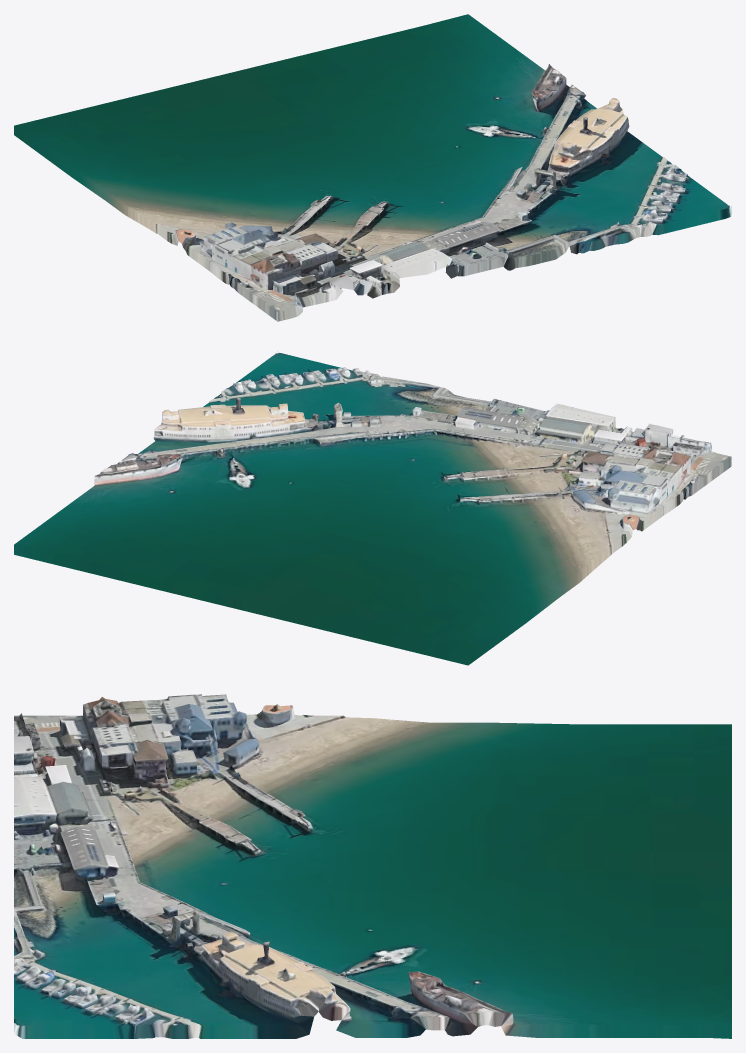
File: z17-20963-50646-h0-yup-uvflip-v3-world.glb
The picture shows the model from 3 angles, top to bottom: view 1: azimuth 30°, elevation 25°; view 2: azimuth 150°, elevation 25°; view 3: azimuth 270°, elevation 25°; orthographic projection. The views are drawn at different scales.
Bounding box in the file's own units: 241 × 22.72 × 243.
Materials: 1 (1 with a texture image).
